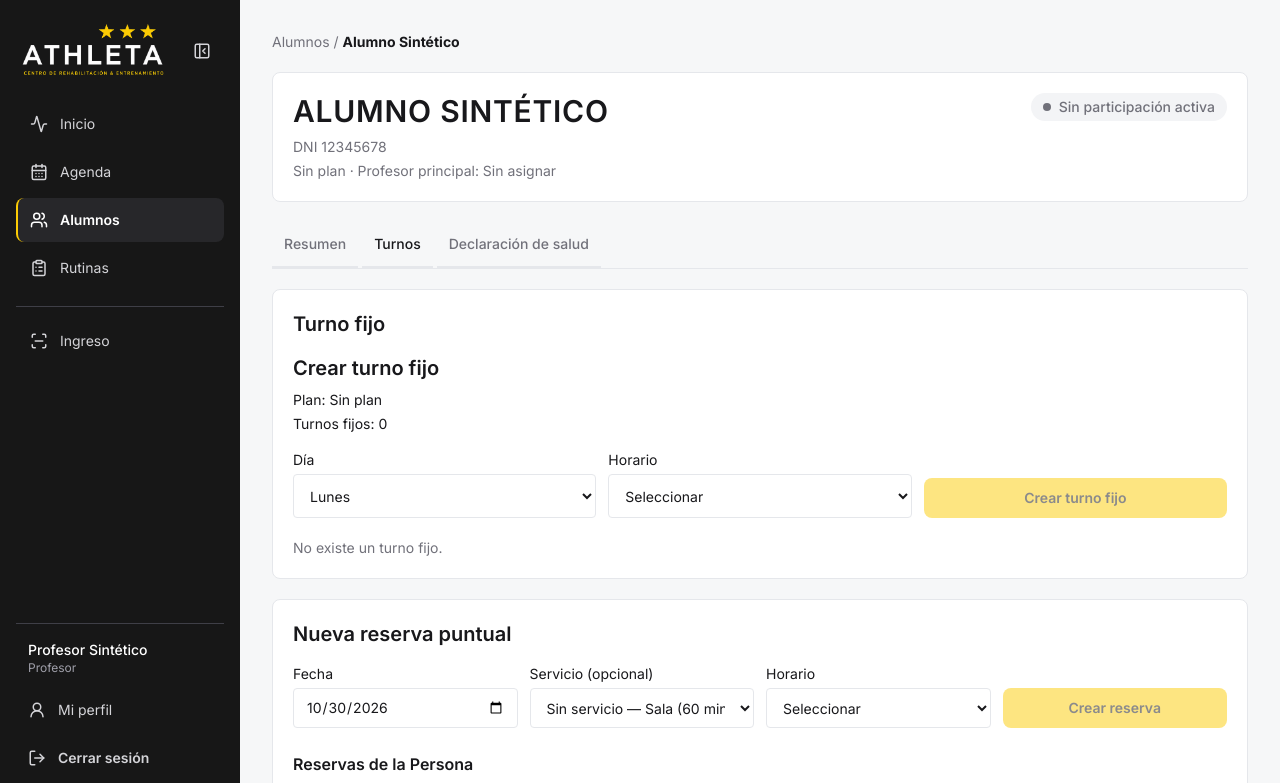
allows general Sala without configured services on the fixed tab
Expected: the button "Crear turno fijo" is disabled, [924, 478, 1227, 518]
Select "09:00" in the dropdown labelled "Horario" below "Turnos fijos:": (760, 496) [608, 474, 912, 518]
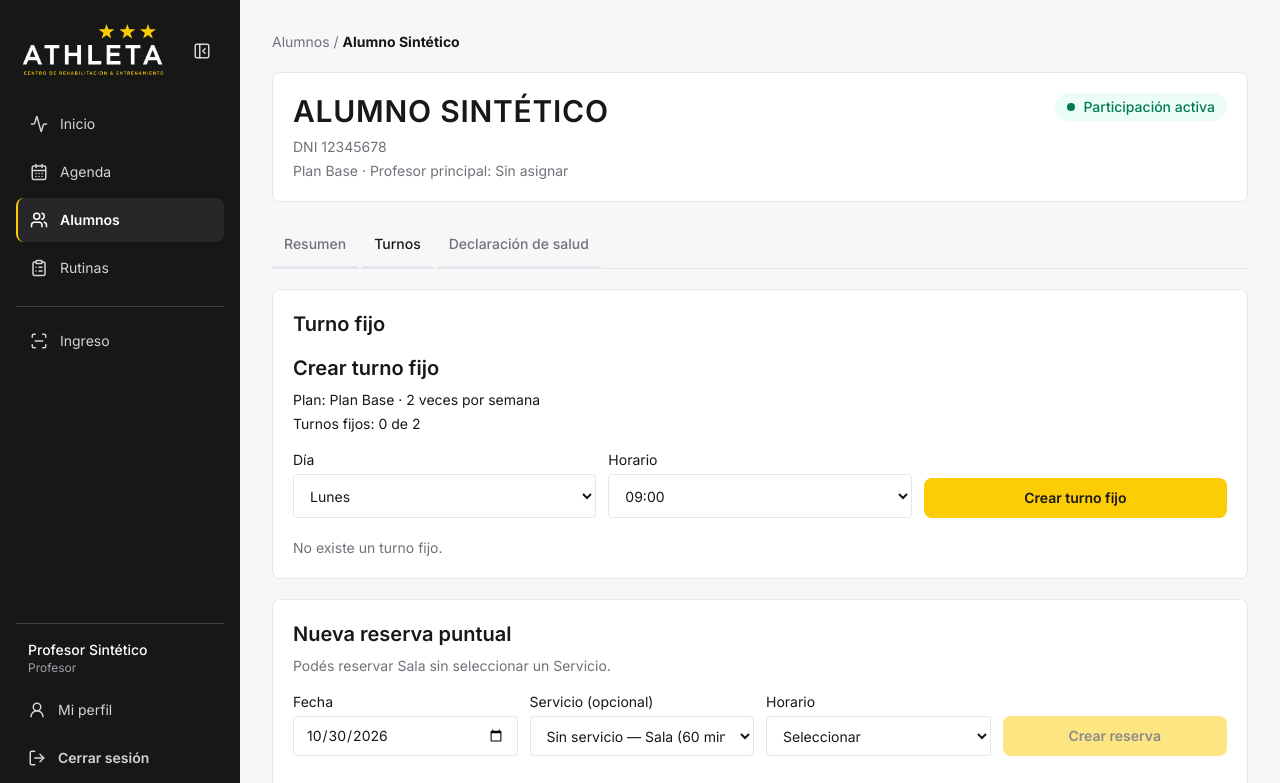
Expected: the button "Crear turno fijo" is enabled, [924, 478, 1227, 518]
